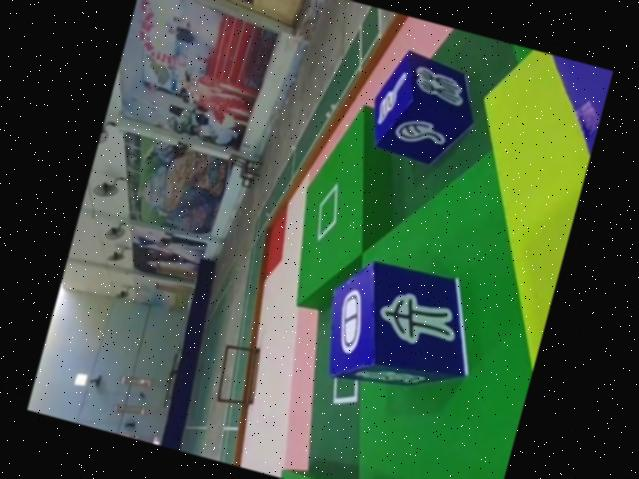R2 Fake Blue: (312, 248, 491, 412), (363, 43, 489, 172)
